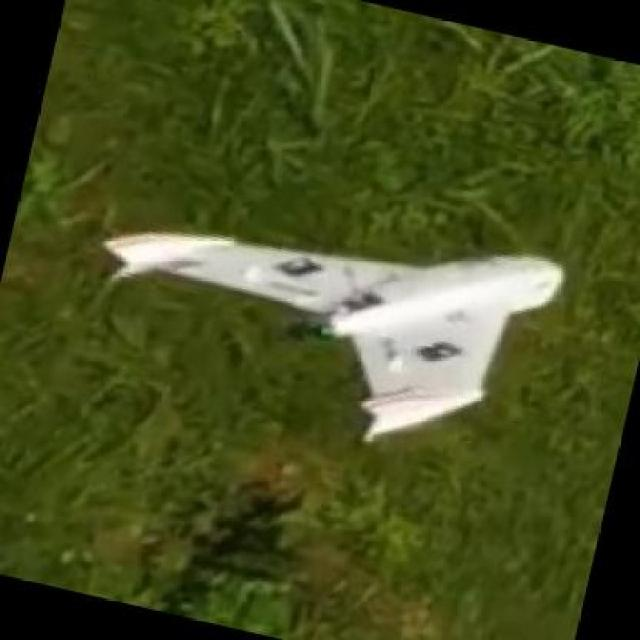iha: (39, 219, 631, 453)
